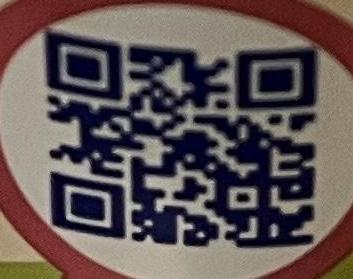qrcode: (44, 33, 318, 249)
